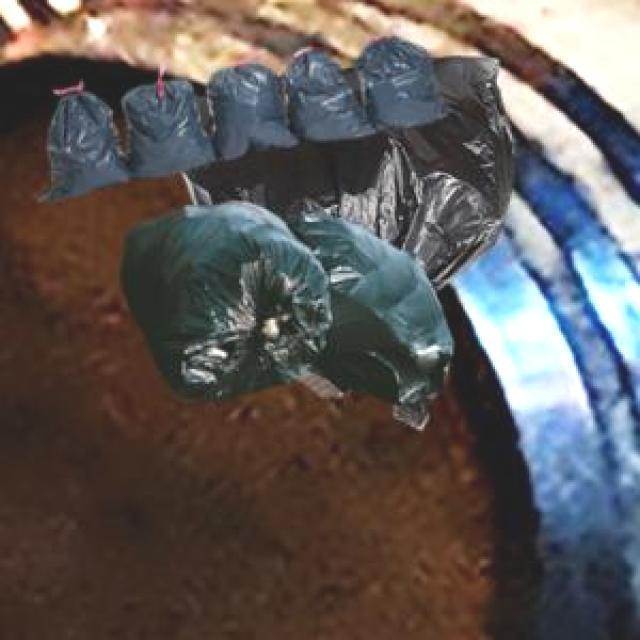Trashbag: (118, 202, 335, 404), (325, 219, 456, 411), (43, 90, 123, 200), (131, 77, 207, 175), (291, 55, 362, 146), (217, 63, 285, 157), (377, 36, 448, 126)
